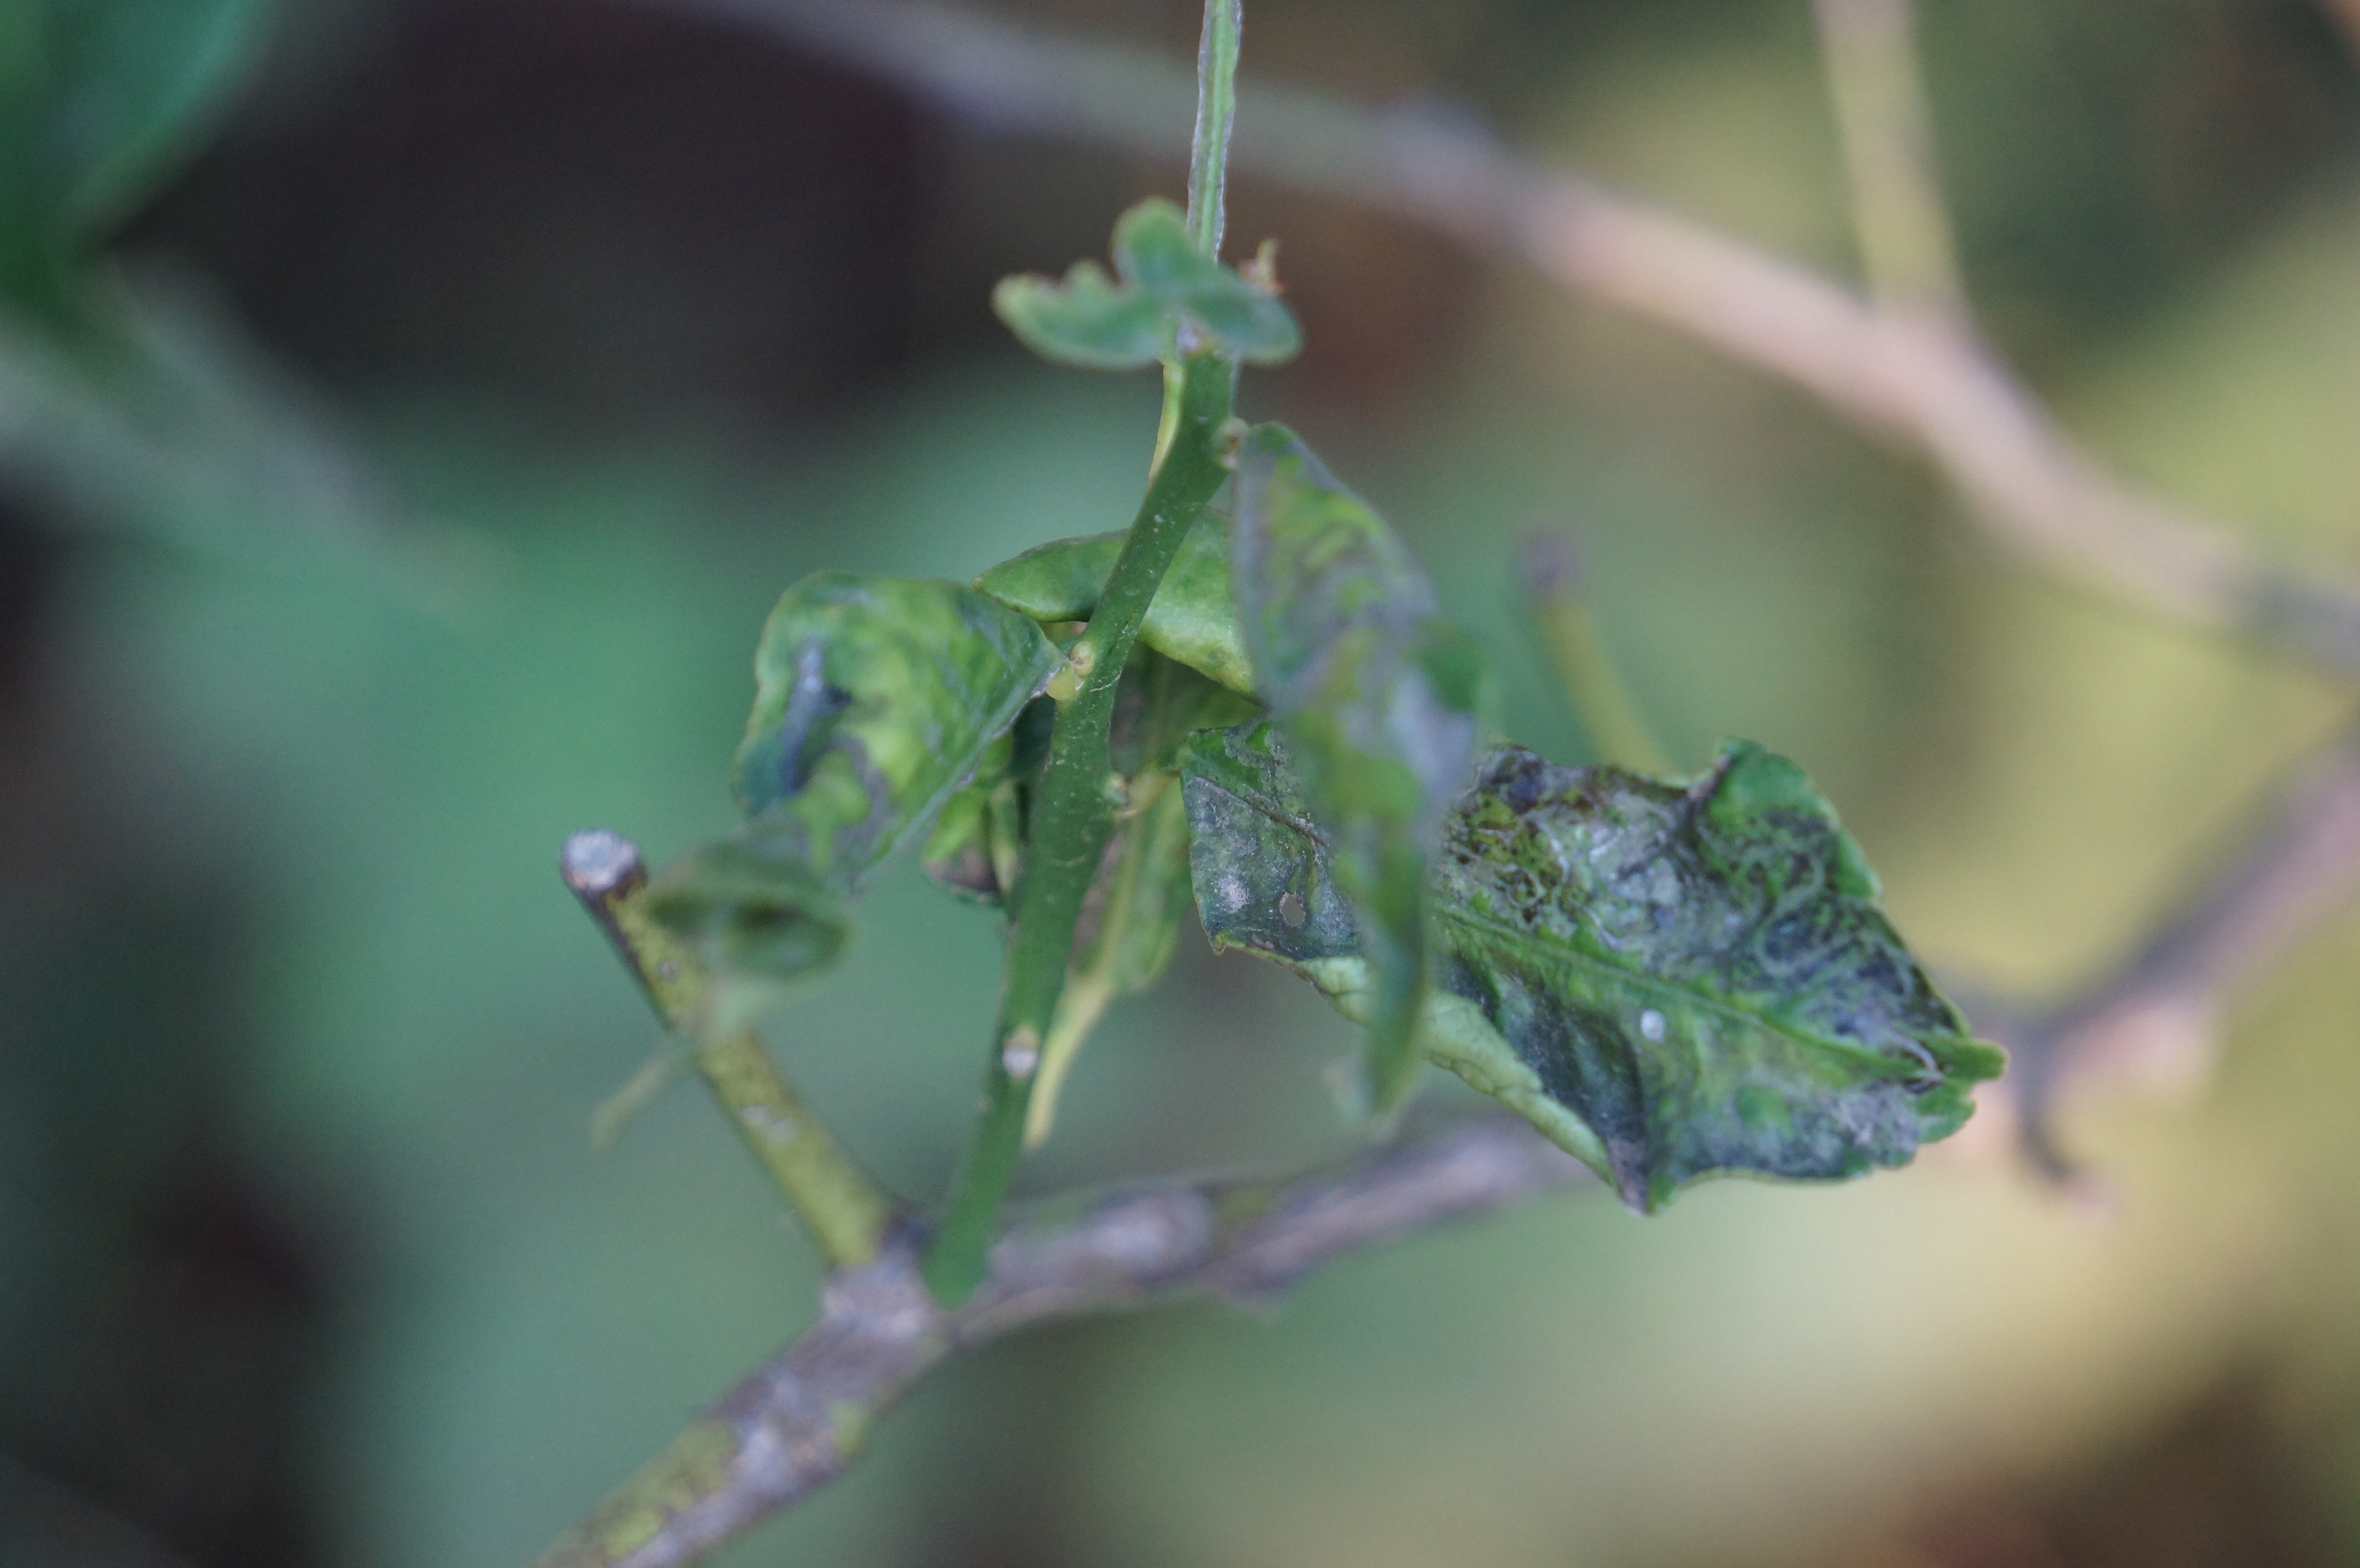damage: (1174, 709, 2042, 1228)
